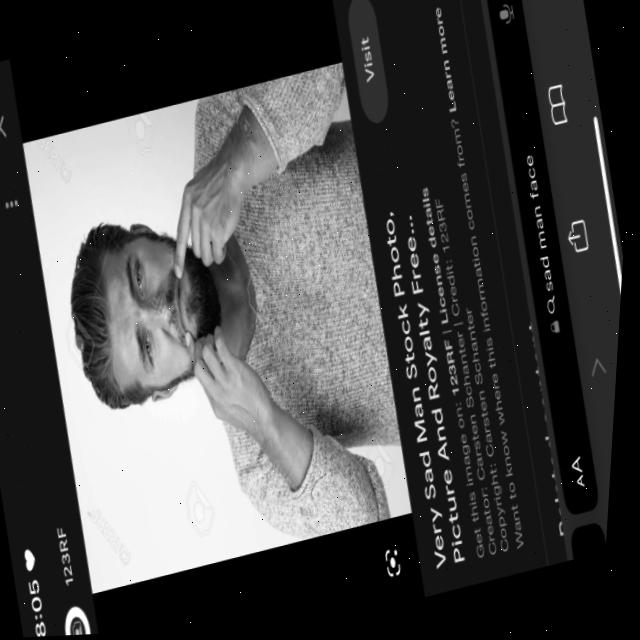sad: (85, 222, 234, 397)
